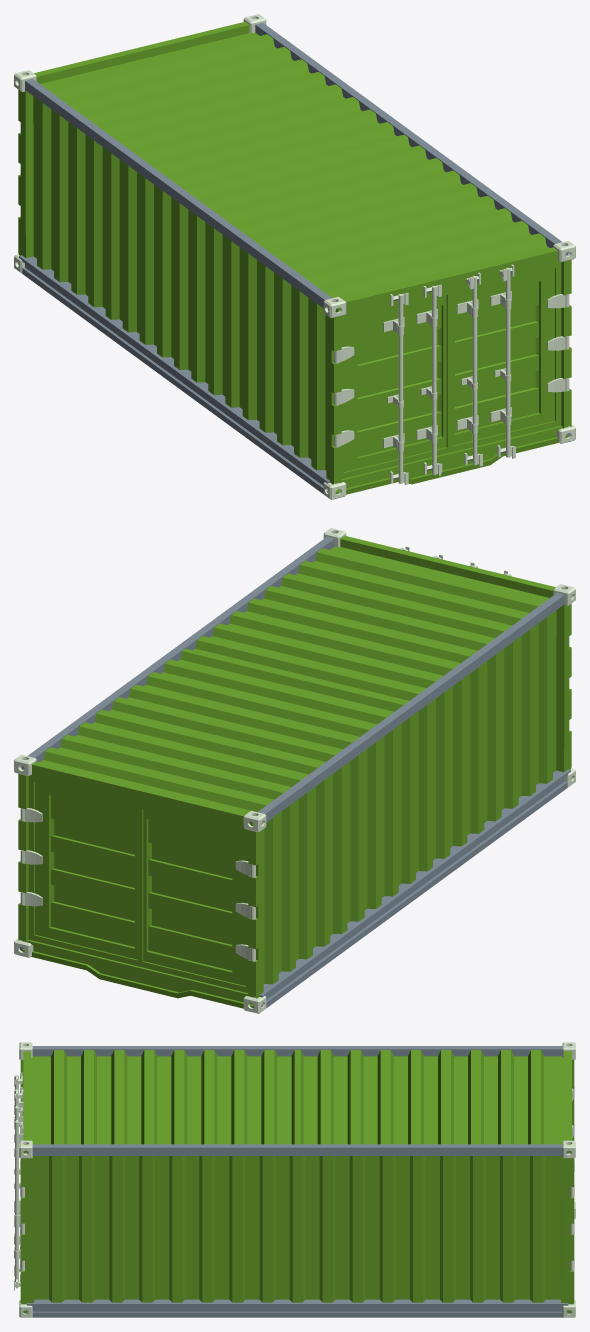
File: shippingContainersClosed.fbx
3 renders of one model, top to bottom at view 1: azimuth 30°, elevation 25°; view 2: azimuth 150°, elevation 25°; view 3: azimuth 270°, elevation 25°, orthographic. The views are drawn at different scales.
Visible parts, largest first — view 1: Green; view 2: Green; view 3: Green.
Boxes of the visible parts, bbox=[...] form: Green: bbox=[14, 14, 575, 499]; Green: bbox=[14, 528, 575, 1013]; Green: bbox=[14, 1042, 575, 1317].
Bounding box in the file's own units: 277 × 623 × 216.
